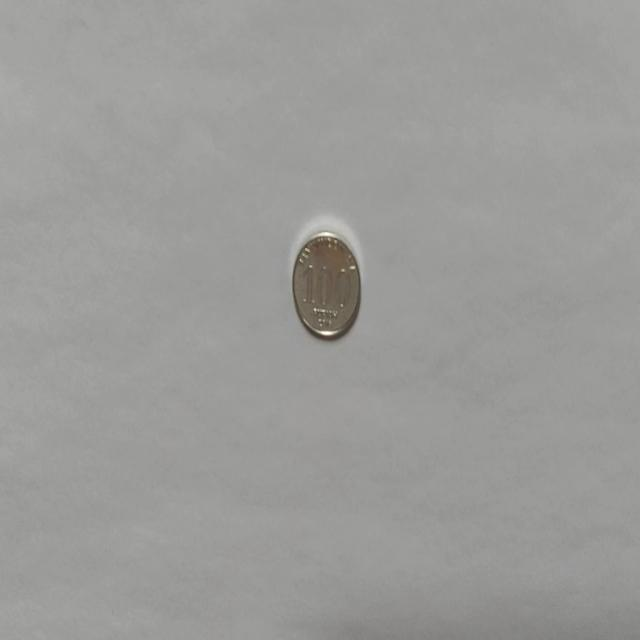seratus rupiah: (291, 230, 361, 340)
